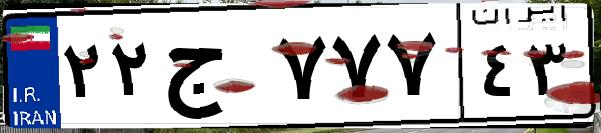2: (57, 26, 110, 100), (110, 28, 158, 98)
3: (525, 38, 570, 115)
4: (475, 38, 525, 113)
7: (270, 28, 330, 110), (385, 28, 445, 110), (330, 28, 385, 110)
ج: (158, 20, 270, 120)
